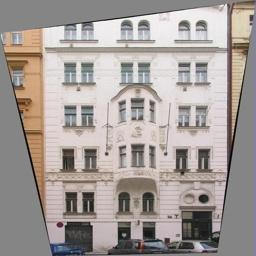building: (43, 0, 231, 256)
